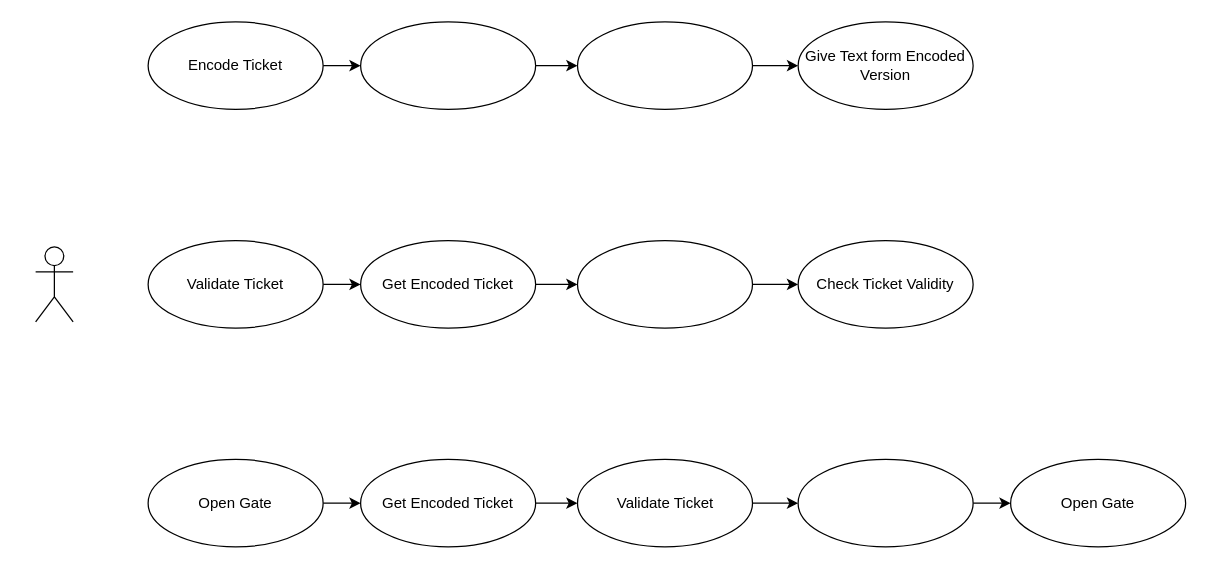
Some shapes in this 1208 by 569 pixel diagram are drawn without their labels. Here are the shapes that lost their labels. From the top down, the centre of each, then its label:
[447,65]: Get Unencoded Ticket
[664,65]: Encode Information
[53,284]: Controller
[664,283]: Decode using Key
[885,502]: Check Valid dates and Zones
